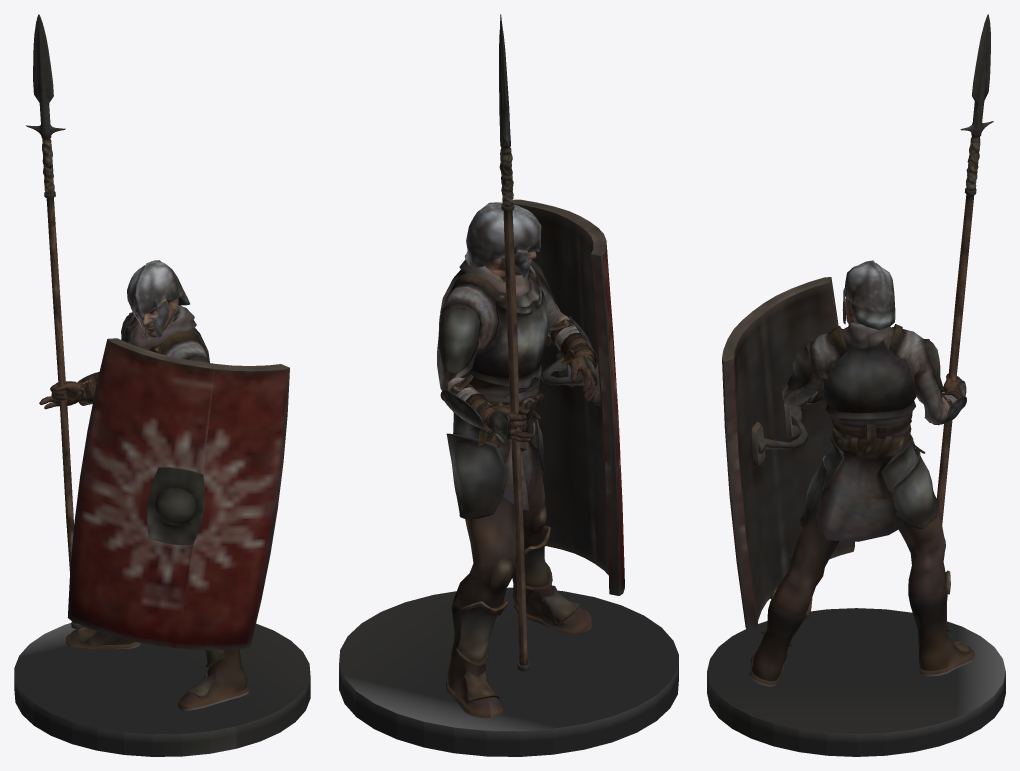
The picture shows the model from 3 angles, left to right: view 1: azimuth 30°, elevation 25°; view 2: azimuth 150°, elevation 25°; view 3: azimuth 270°, elevation 25°; orthographic projection. The views are drawn at different scales.
Parts seen in each view (by area): view 1: headgroup_gatekeeper_medhelm_lod1.smd; view 2: headgroup_gatekeeper_medhelm_lod1.smd; view 3: headgroup_gatekeeper_medhelm_lod1.smd.
Boxes of the visible parts, left/top/right/bottom form: headgroup_gatekeeper_medhelm_lod1.smd: left=14, top=14, right=310, bottom=756; headgroup_gatekeeper_medhelm_lod1.smd: left=339, top=14, right=678, bottom=756; headgroup_gatekeeper_medhelm_lod1.smd: left=707, top=14, right=1005, bottom=756.
Bounding box in the file's own units: 1.08 × 2.59 × 1.08.
Materials: 1 (1 with a texture image).
